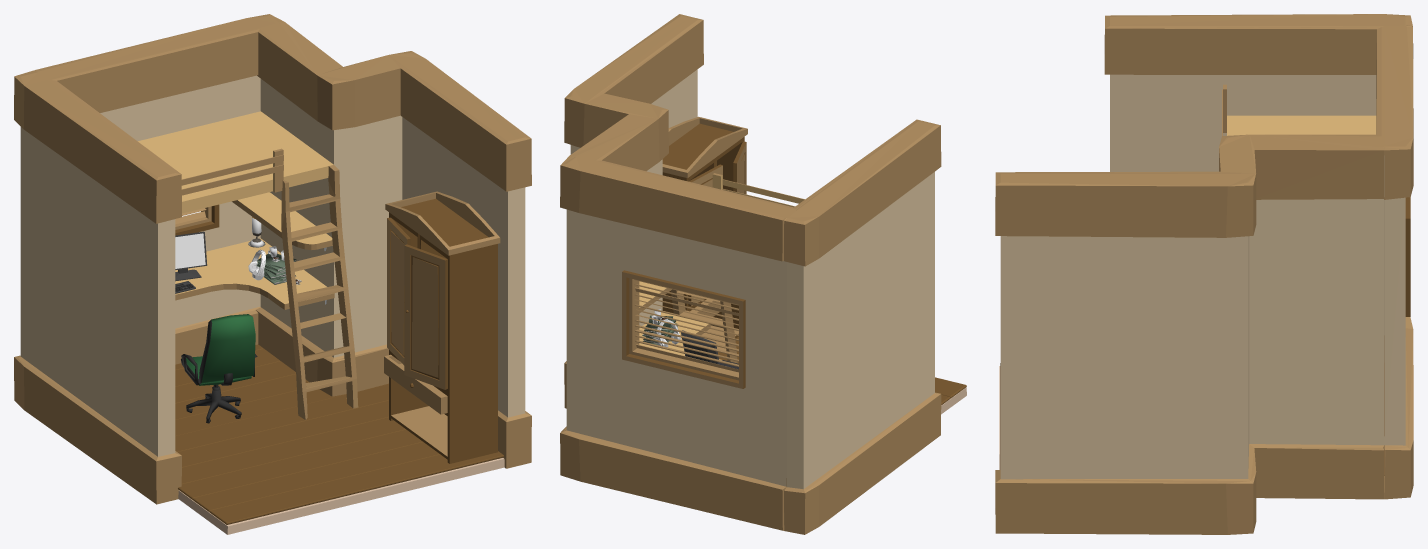
Rendered from workspace.glb.
3 renders of one model, left to right at view 1: azimuth 30°, elevation 25°; view 2: azimuth 150°, elevation 25°; view 3: azimuth 270°, elevation 25°, orthographic. The views are drawn at different scales.
Parts seen in each view (by area): view 1: Walls, Planks, cAIBNET.002, Bed Frame, Laddder, chair_f, Table, Floor, Table Top, Monitor, wINDOW, Books&Coffee; view 2: Walls, wINDOW, cAIBNET.002, Laddder, Bed Frame, Table, Planks, Monitor, Books&Coffee; view 3: Walls, Bed Frame, wINDOW.
Boxes of the visible parts, x1,y1,x2,y2 form: Walls: (14, 14, 531, 504); Planks: (175, 344, 503, 524); cAIBNET.002: (384, 191, 500, 463); Bed Frame: (138, 111, 333, 213); Laddder: (281, 165, 358, 420); chair_f: (181, 314, 257, 423); Table: (175, 238, 334, 309); Floor: (178, 458, 504, 534); Table Top: (232, 192, 332, 250); Monitor: (175, 231, 207, 281); wINDOW: (175, 204, 219, 235); Books&Coffee: (256, 246, 301, 284); Walls: (560, 14, 941, 534); wINDOW: (622, 270, 745, 388); cAIBNET.002: (662, 116, 747, 340); Laddder: (671, 289, 737, 363); Bed Frame: (712, 173, 804, 207); Table: (639, 311, 721, 360); Planks: (717, 336, 966, 404); Monitor: (681, 330, 718, 363); Books&Coffee: (642, 309, 677, 344); Walls: (995, 14, 1413, 534); Bed Frame: (1222, 84, 1376, 135); wINDOW: (1405, 197, 1410, 316).
Bounding box in the file's own units: 2.86 × 2.7 × 2.93.
